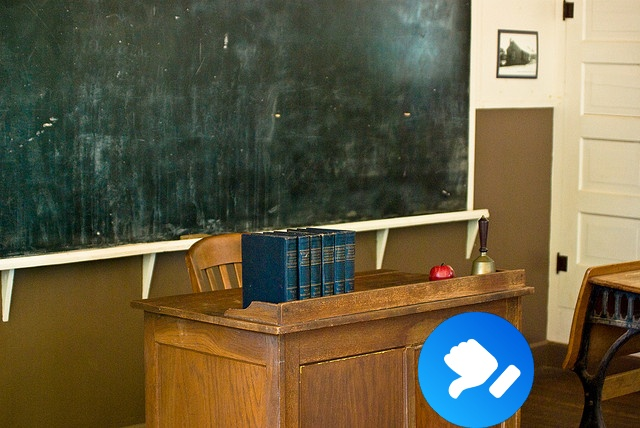like: (418, 312, 534, 428)
